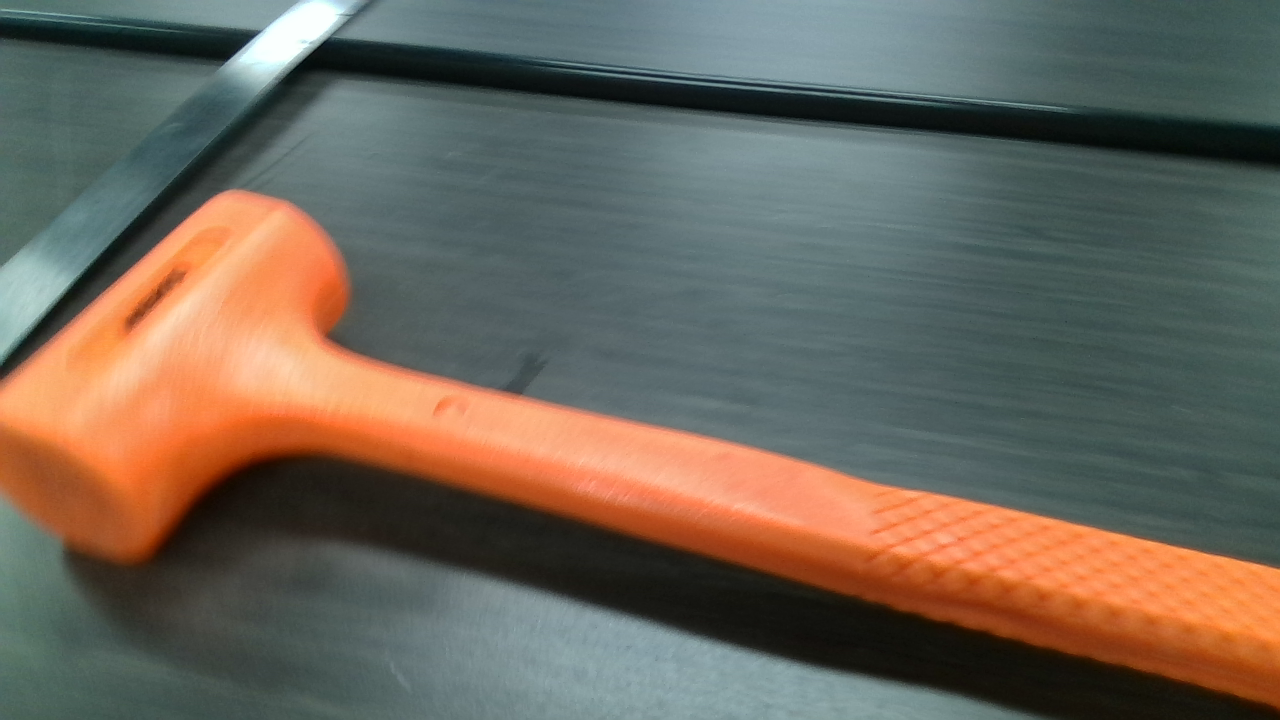Orange Hammer: (0, 187, 1280, 702)
